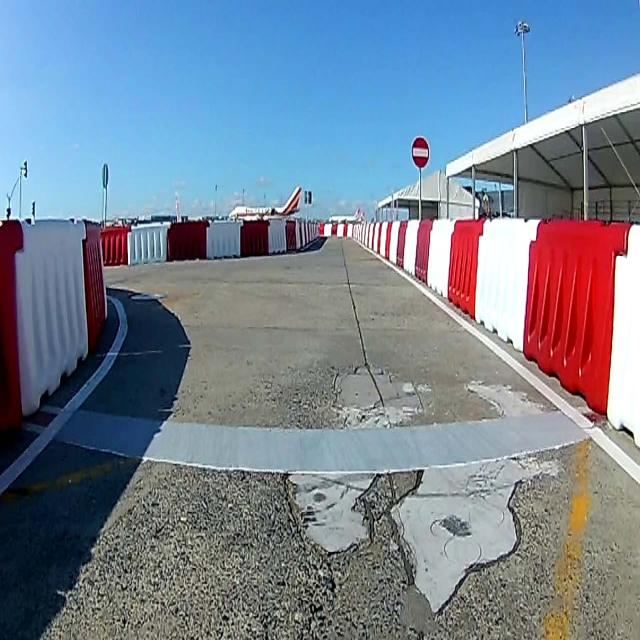girisyok: (411, 135, 430, 165)
